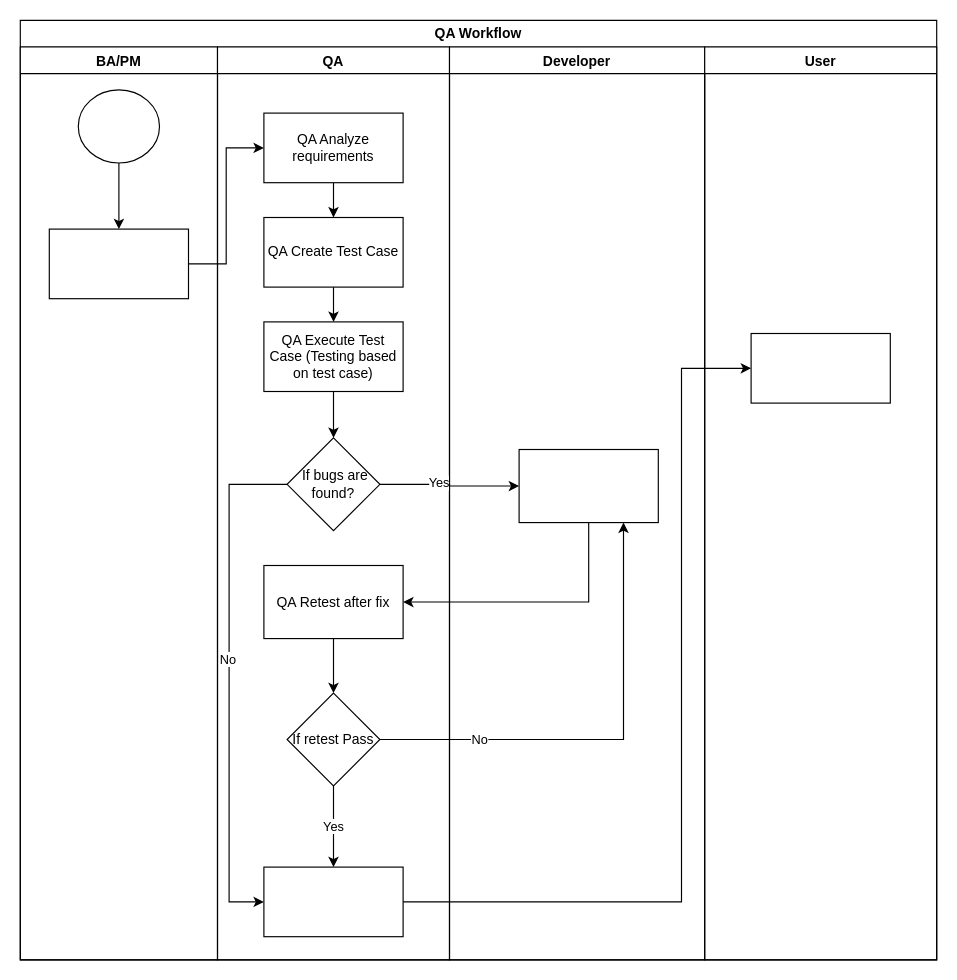
Some shapes in this 957 by 980 pixel diagram are drawn without their labels. The shapes that lost their labels are listed below. From the top down, each one's centre as x and y in pixels, then its label:
[118,126]: Start
[118,263]: Define requirements and provide them to QA
[820,367]: UAT
[588,485]: Fix Bugs
[333,901]: Prepared document for UAT
